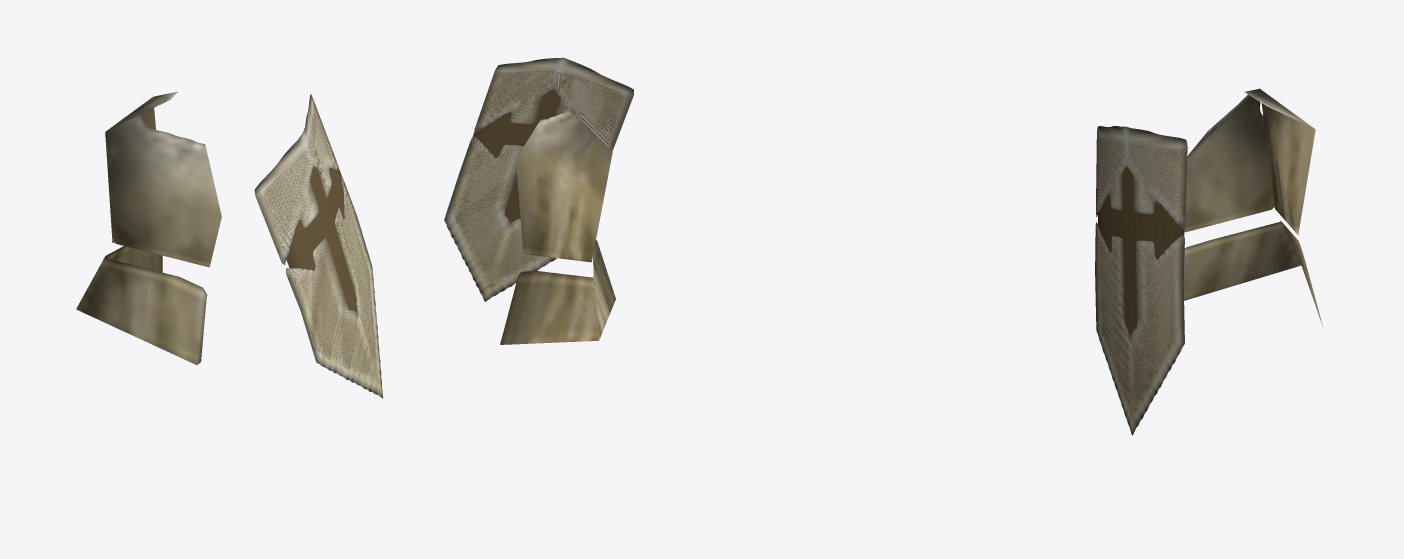
File: Lod1_Level03_Soldier_Peltast.FBX
The picture shows the model from 3 angles, left to right: view 1: azimuth 30°, elevation 25°; view 2: azimuth 150°, elevation 25°; view 3: azimuth 270°, elevation 25°; orthographic projection. The views are drawn at different scales.
Visible parts, largest first — view 1: Soldier_Peltast_Torso, Soldier_Peltast_L_Hands; view 2: Soldier_Peltast_L_Hands, Soldier_Peltast_Torso; view 3: Soldier_Peltast_L_Hands, Soldier_Peltast_Torso.
Part boxes in pixels (box(x1,y1,x2,y2)): Soldier_Peltast_Torso: box(76, 92, 221, 364); Soldier_Peltast_L_Hands: box(254, 94, 383, 398); Soldier_Peltast_L_Hands: box(444, 57, 633, 301); Soldier_Peltast_Torso: box(500, 111, 615, 344); Soldier_Peltast_L_Hands: box(1095, 126, 1187, 435); Soldier_Peltast_Torso: box(1183, 88, 1322, 326).
Size of the model in its own units: 111 by 153 by 140.
